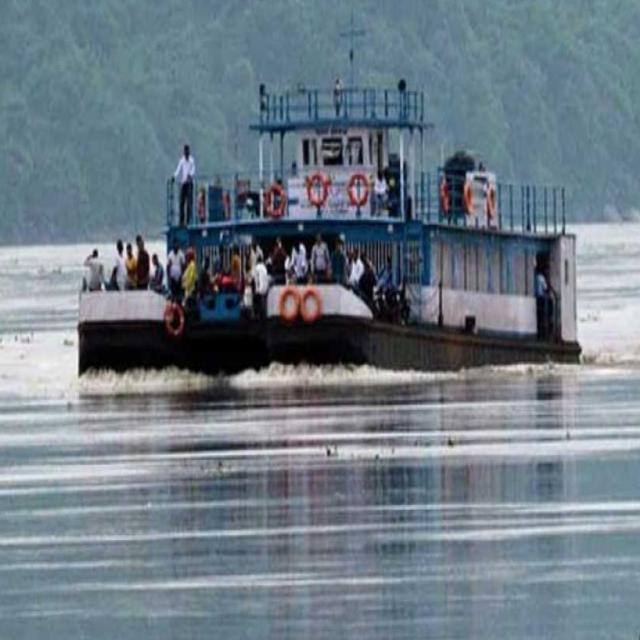houseboat: (76, 55, 600, 392)
